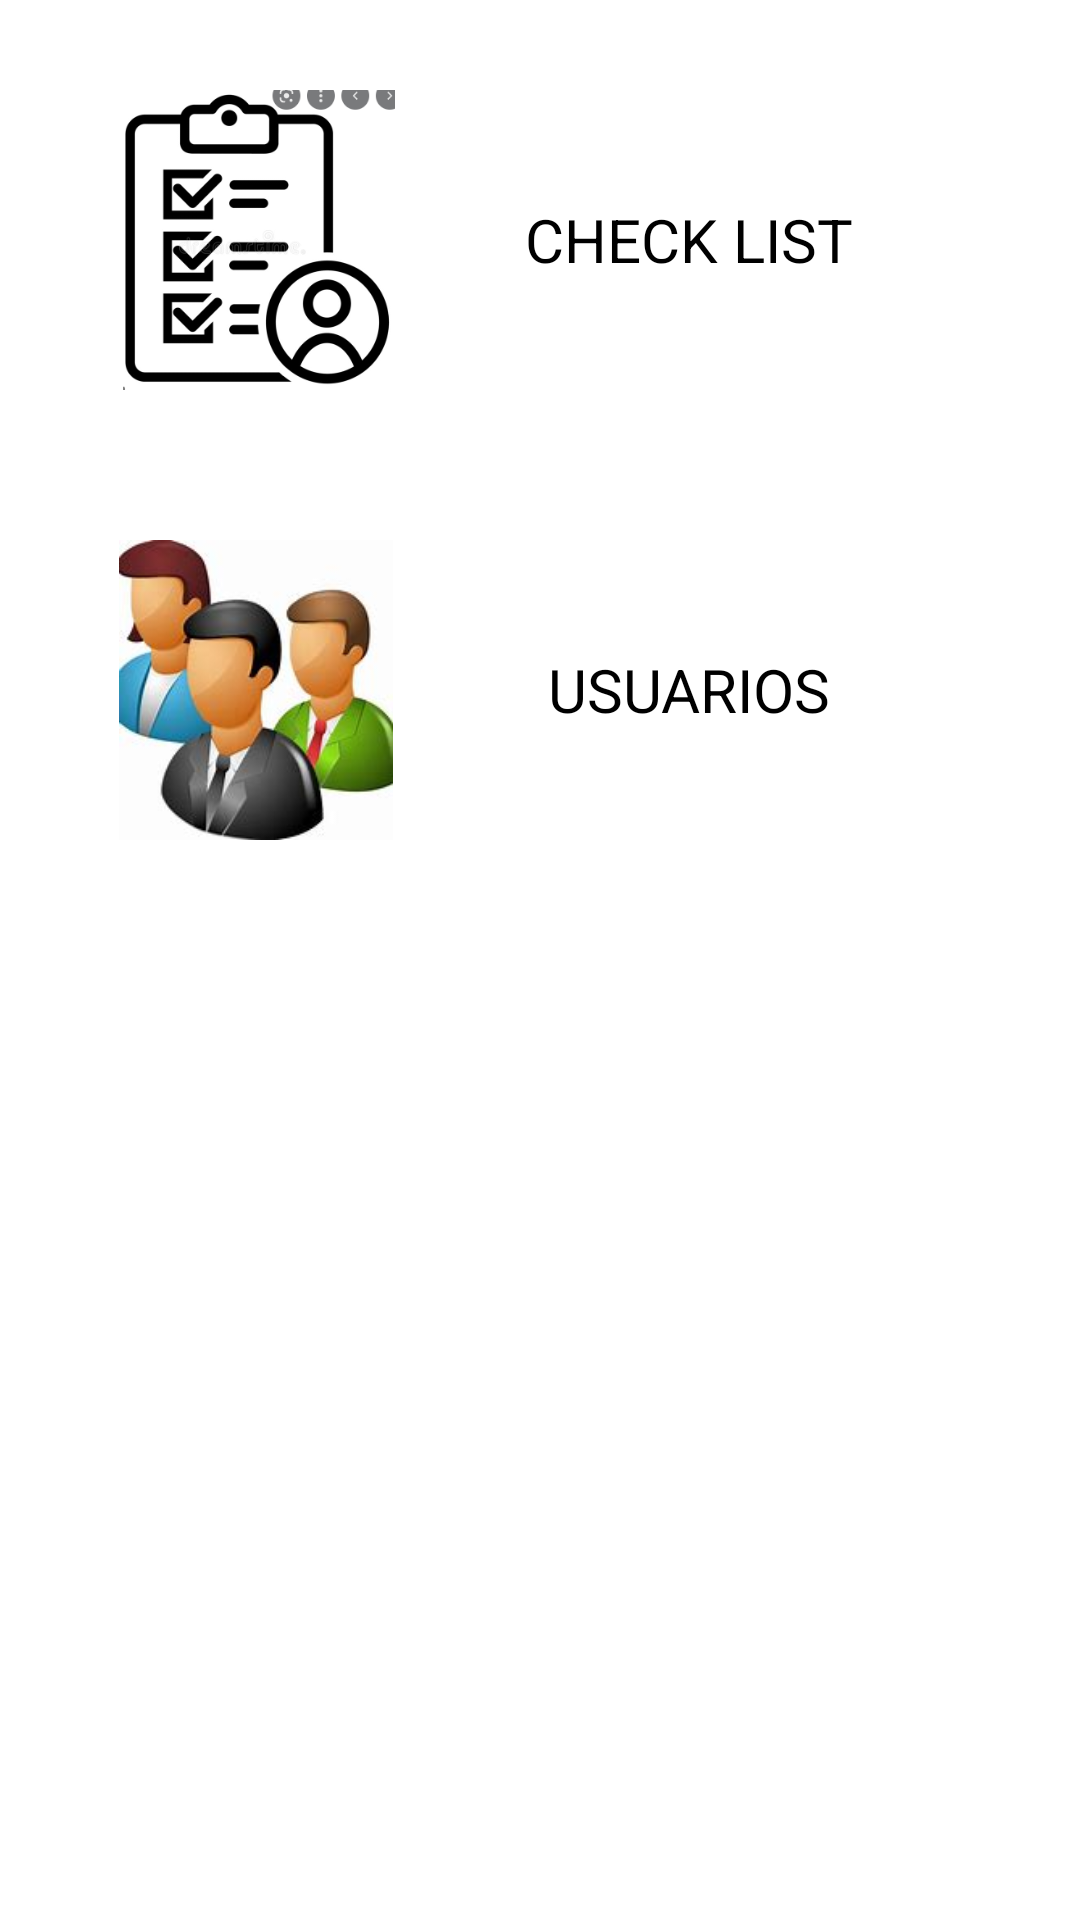

Where to tap for icons on this 1080×1920 app screen, as (x,y):
usur: (256,690)
